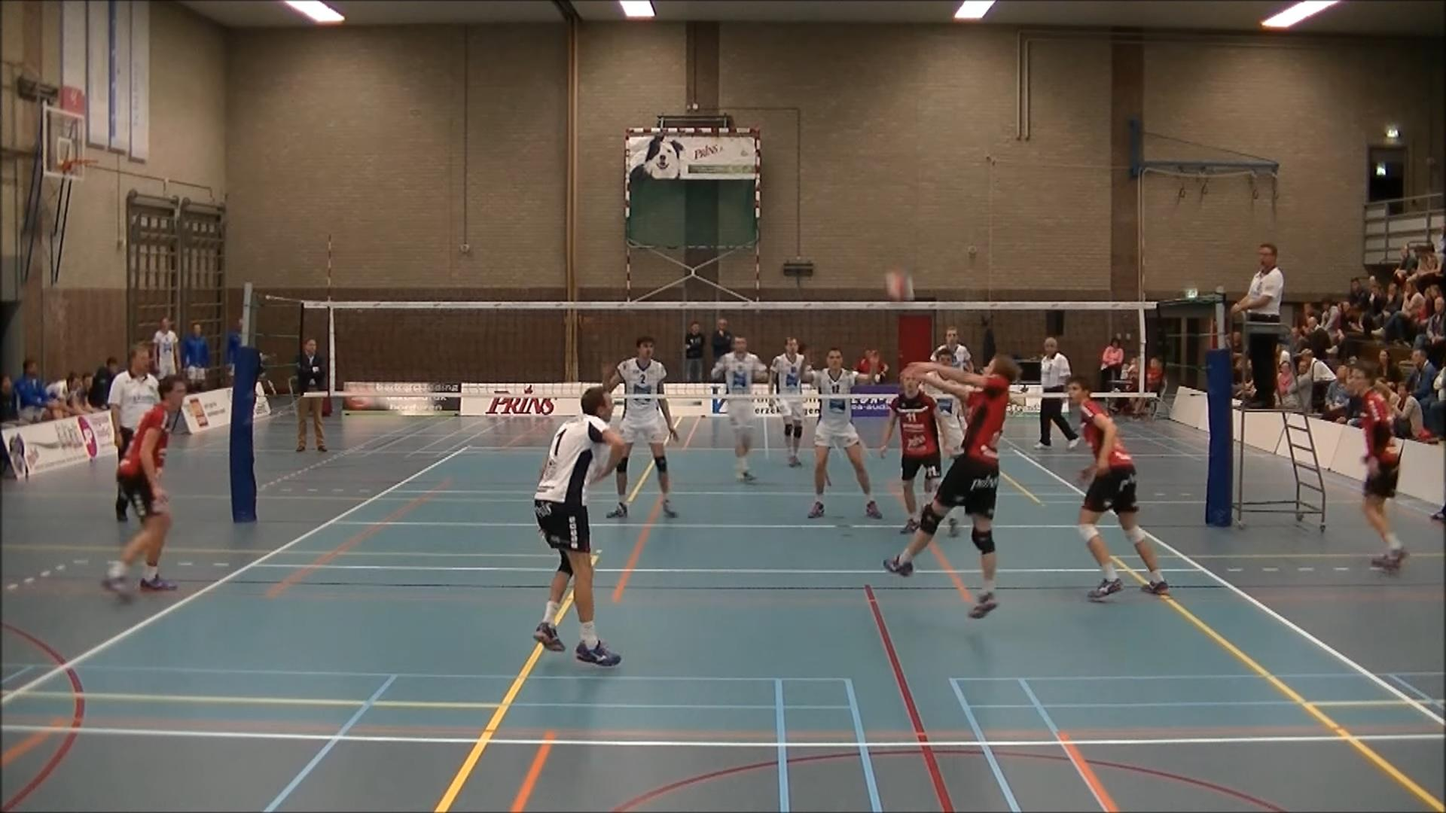Player: (534, 387, 624, 666), (1066, 375, 1168, 601), (102, 375, 185, 594), (606, 336, 676, 518), (808, 348, 882, 519), (1348, 362, 1406, 571), (879, 373, 950, 533), (712, 338, 767, 482), (769, 337, 810, 467), (923, 376, 963, 458)
Receive: (892, 349, 1018, 623)
ball: (881, 268, 920, 305)
